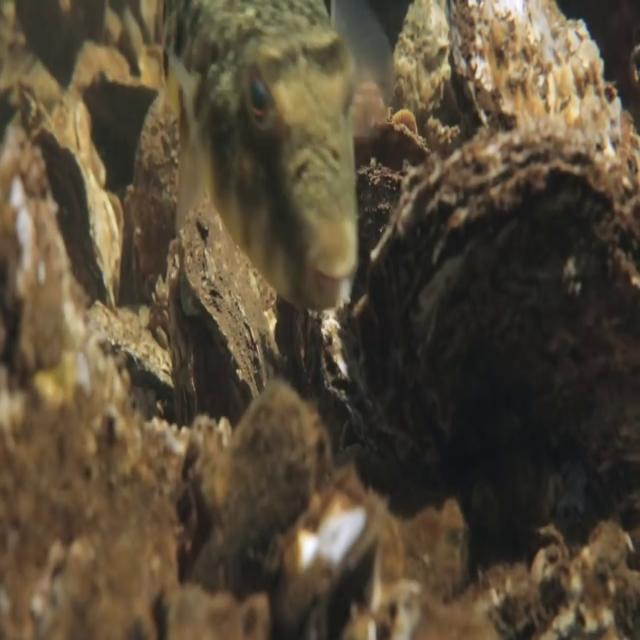Oyster-Closed: (168, 200, 269, 408), (32, 121, 118, 312)
Oyster-Indeterminate: (342, 118, 639, 496)
